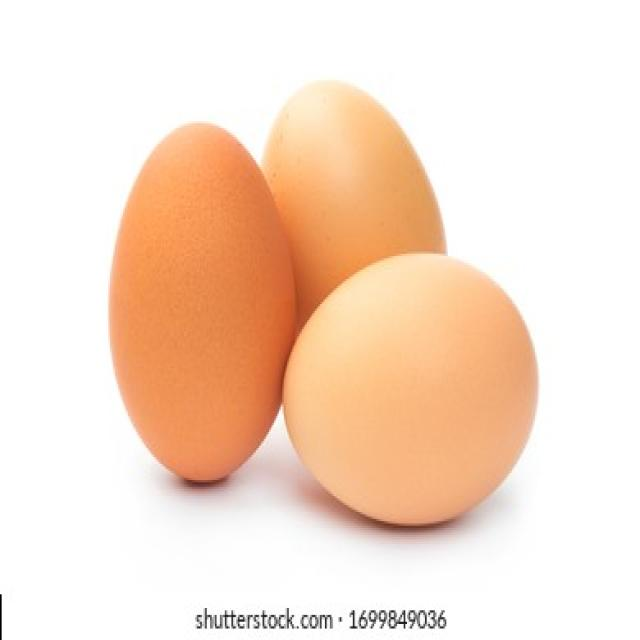Brown Egg: (277, 246, 544, 530), (108, 111, 294, 492), (264, 74, 452, 308)
